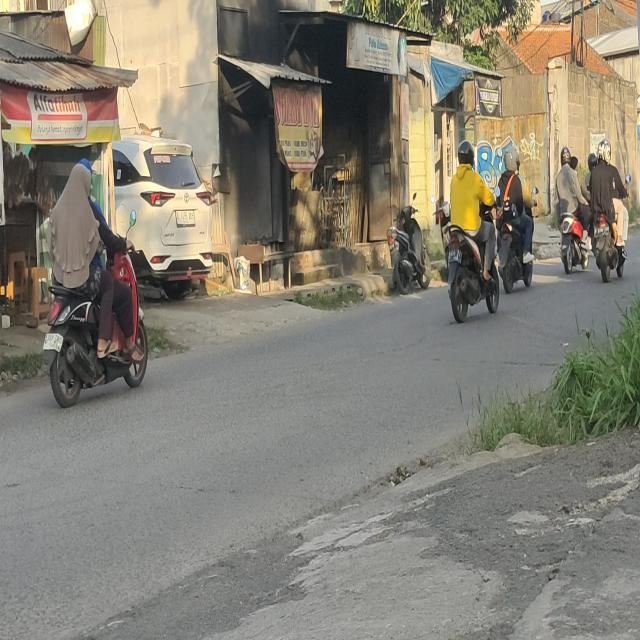helmet: (457, 139, 476, 170), (597, 139, 611, 166), (505, 148, 519, 174), (559, 146, 571, 166), (588, 153, 597, 169)
no-helmet: (72, 161, 90, 204), (81, 157, 95, 182), (571, 157, 579, 170)
